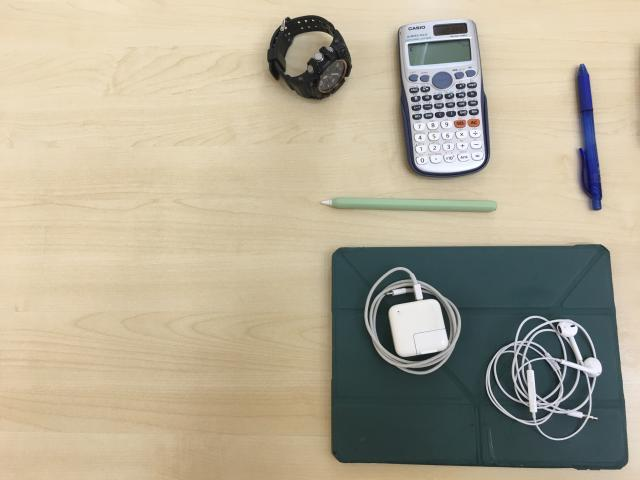Pen: (576, 64, 606, 212)
Watch: (266, 15, 353, 102)
wire: (486, 317, 603, 442), (363, 271, 462, 376)
